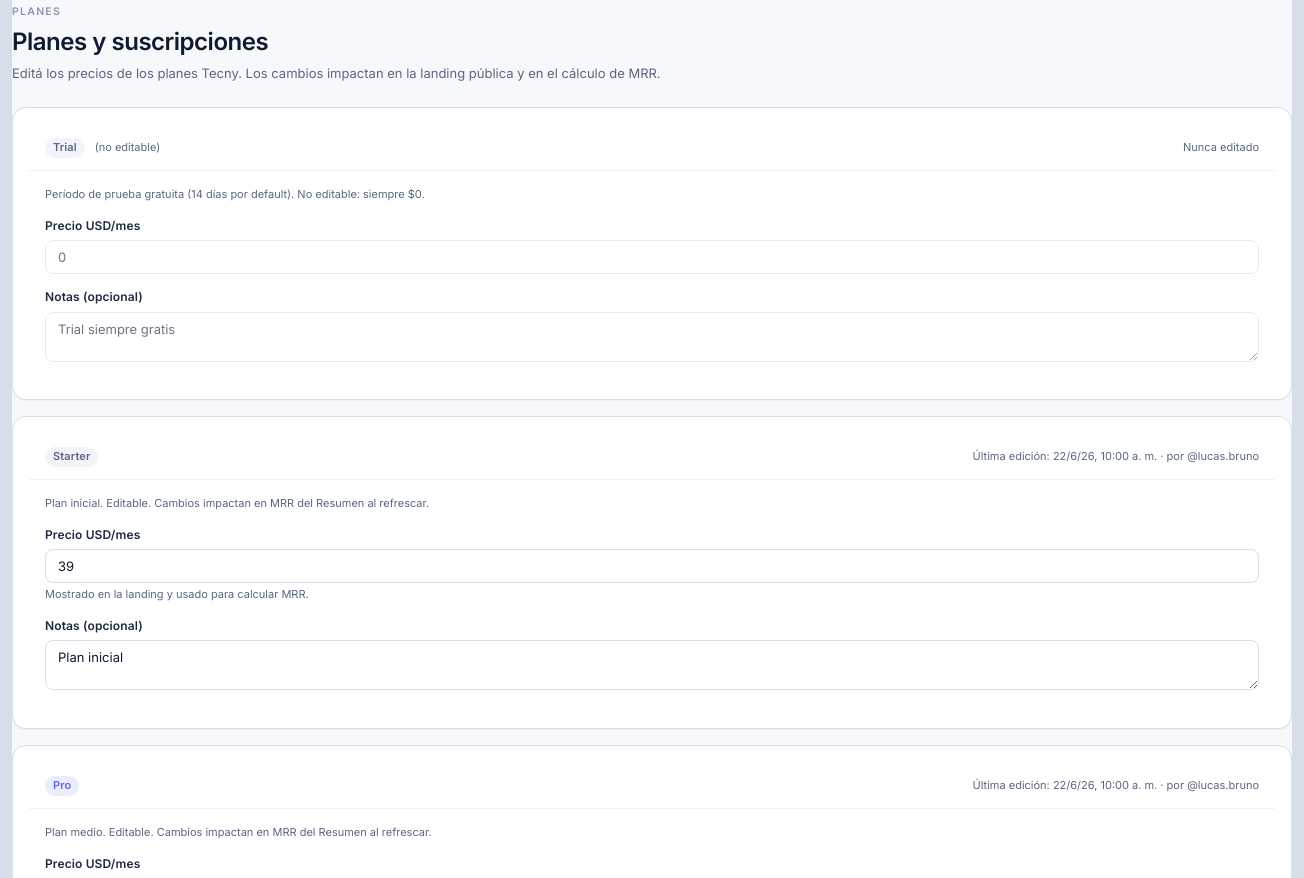
Test: Planes › Descartar tira los cambios y limpia los botones
Replace the text in the number field named "Precio del plan starter" with "99" at (652, 566), box [45,549,1259,583]
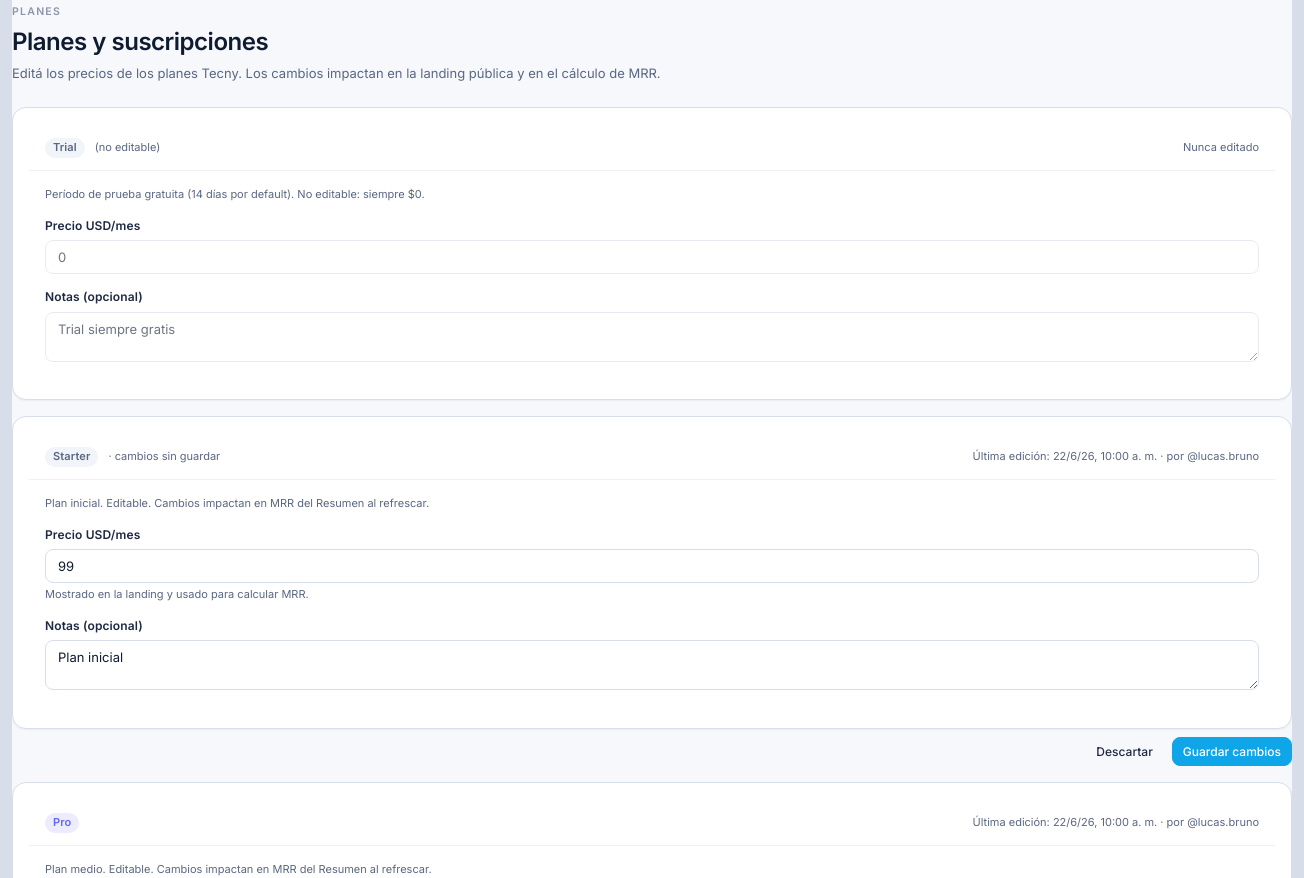
Expected: the button "Descartar" is shown
Click the button "Descartar" at (1125, 751), box [1085,737,1164,766]
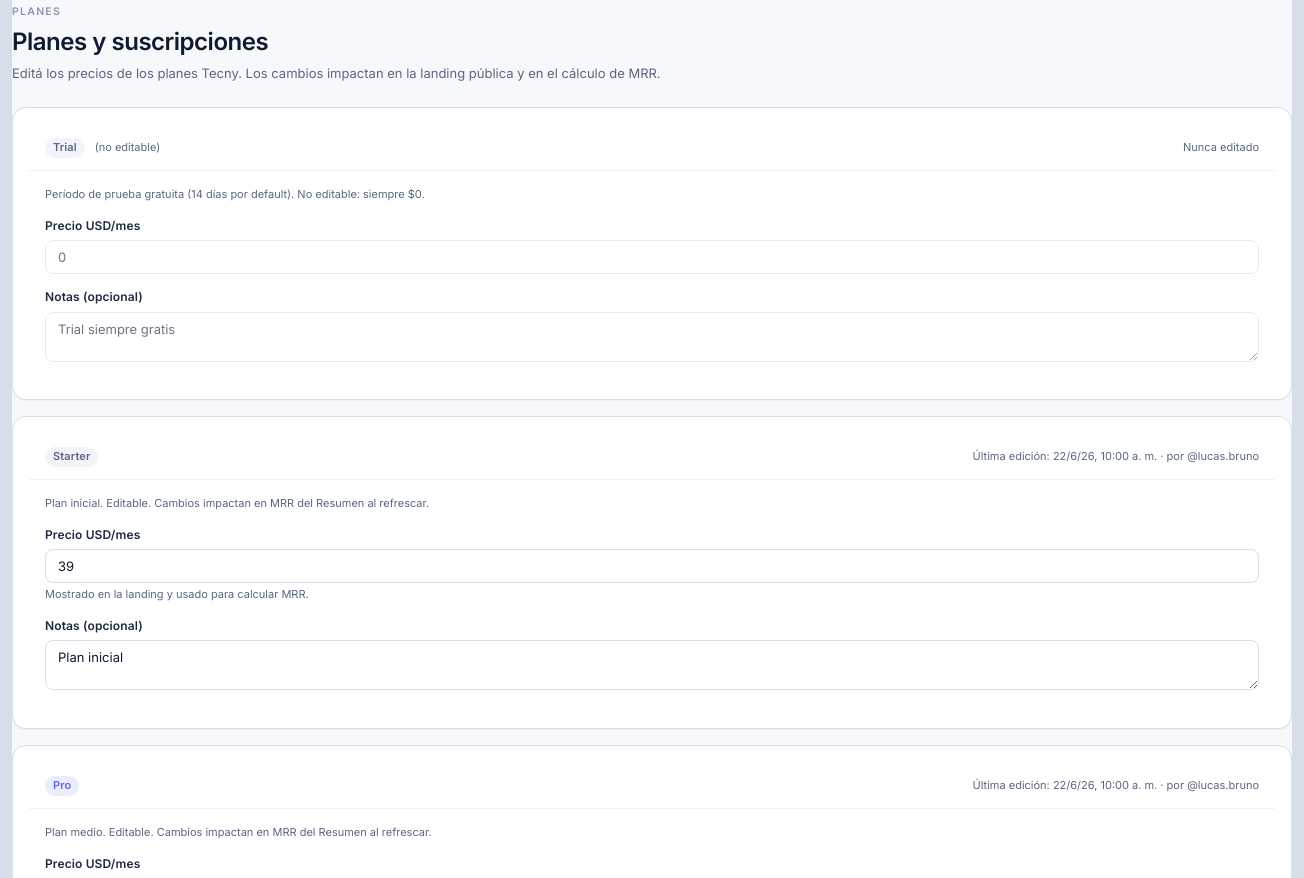
Expected: the number field named "Precio del plan starter" holds "39", [45,549,1259,583]
Expected: the button "Descartar" is gone
Expected: the button "Guardar cambios" is gone
